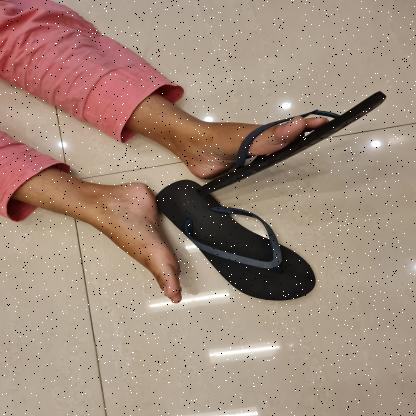leg: (129, 89, 394, 198), (13, 160, 194, 310)
